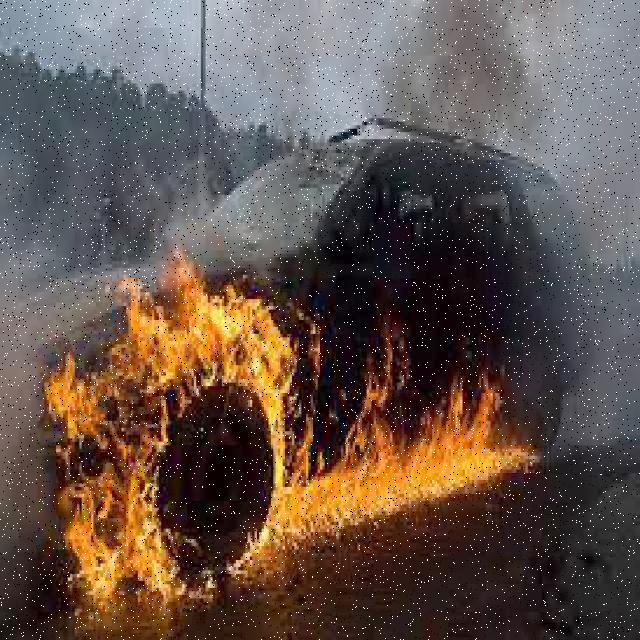fire: (48, 277, 294, 596), (280, 410, 536, 534)
smoke: (385, 9, 629, 164)
